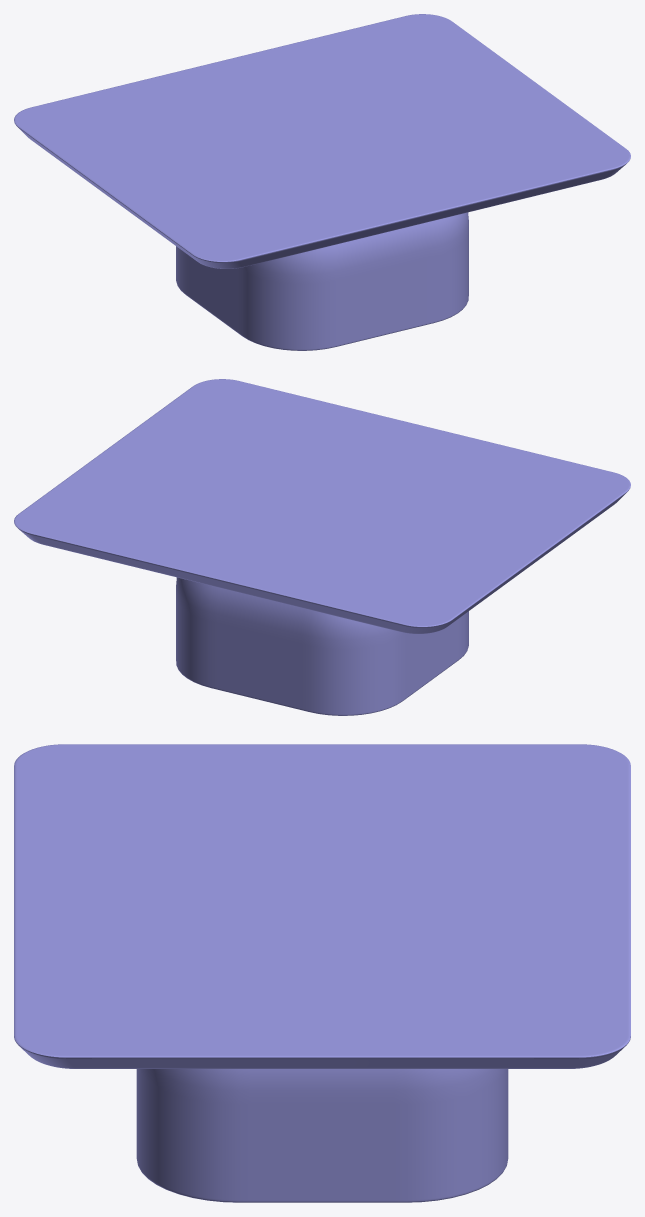
Rendered from Nikari side table.obj.
The picture shows the model from 3 angles, top to bottom: view 1: azimuth 30°, elevation 25°; view 2: azimuth 150°, elevation 25°; view 3: azimuth 270°, elevation 25°; orthographic projection. The views are drawn at different scales.
Visible parts, largest first — view 1: Nikari_side_table; view 2: Nikari_side_table; view 3: Nikari_side_table.
Boxes of the visible parts, x1=… form: Nikari_side_table: x1=14, y1=14, x2=630, y2=350; Nikari_side_table: x1=14, y1=379, x2=630, y2=715; Nikari_side_table: x1=14, y1=744, x2=630, y2=1202.
Bounding box in the file's own units: 59.77 × 20 × 49.8.
